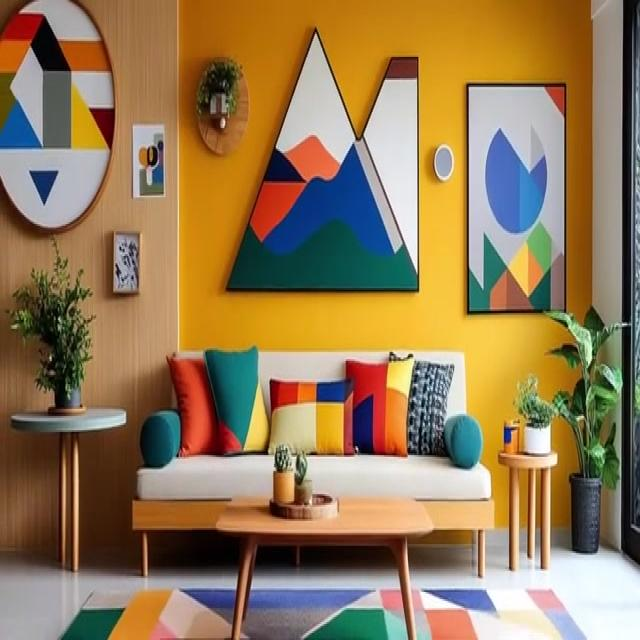obstacle: (131, 347, 494, 578), (214, 496, 434, 638), (10, 405, 126, 571), (497, 448, 557, 571)
